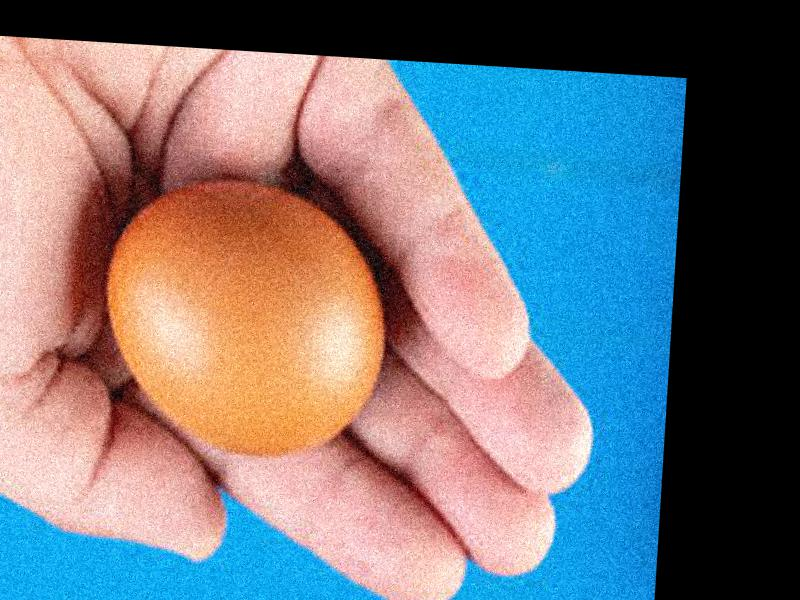Eggs: (99, 180, 397, 462)
